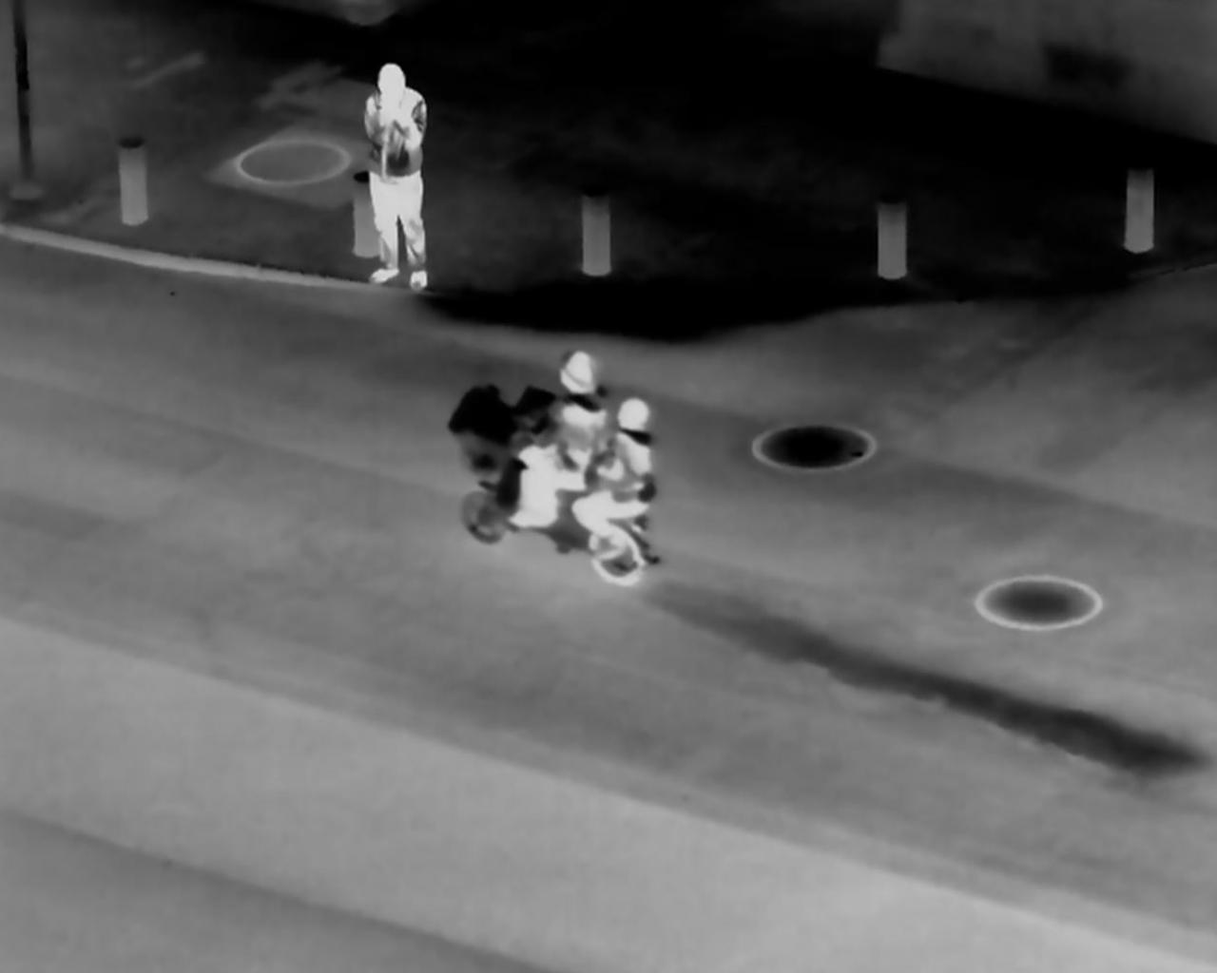person: (357, 50, 435, 293), (522, 351, 606, 546), (584, 395, 654, 557)
